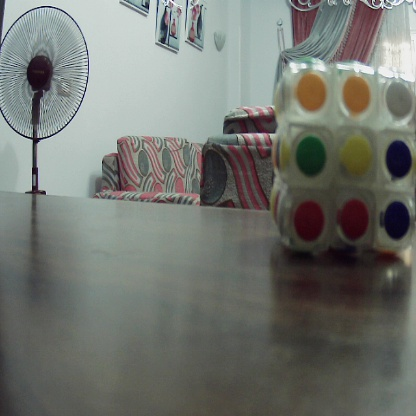Rubix Cube: (271, 59, 408, 249)
